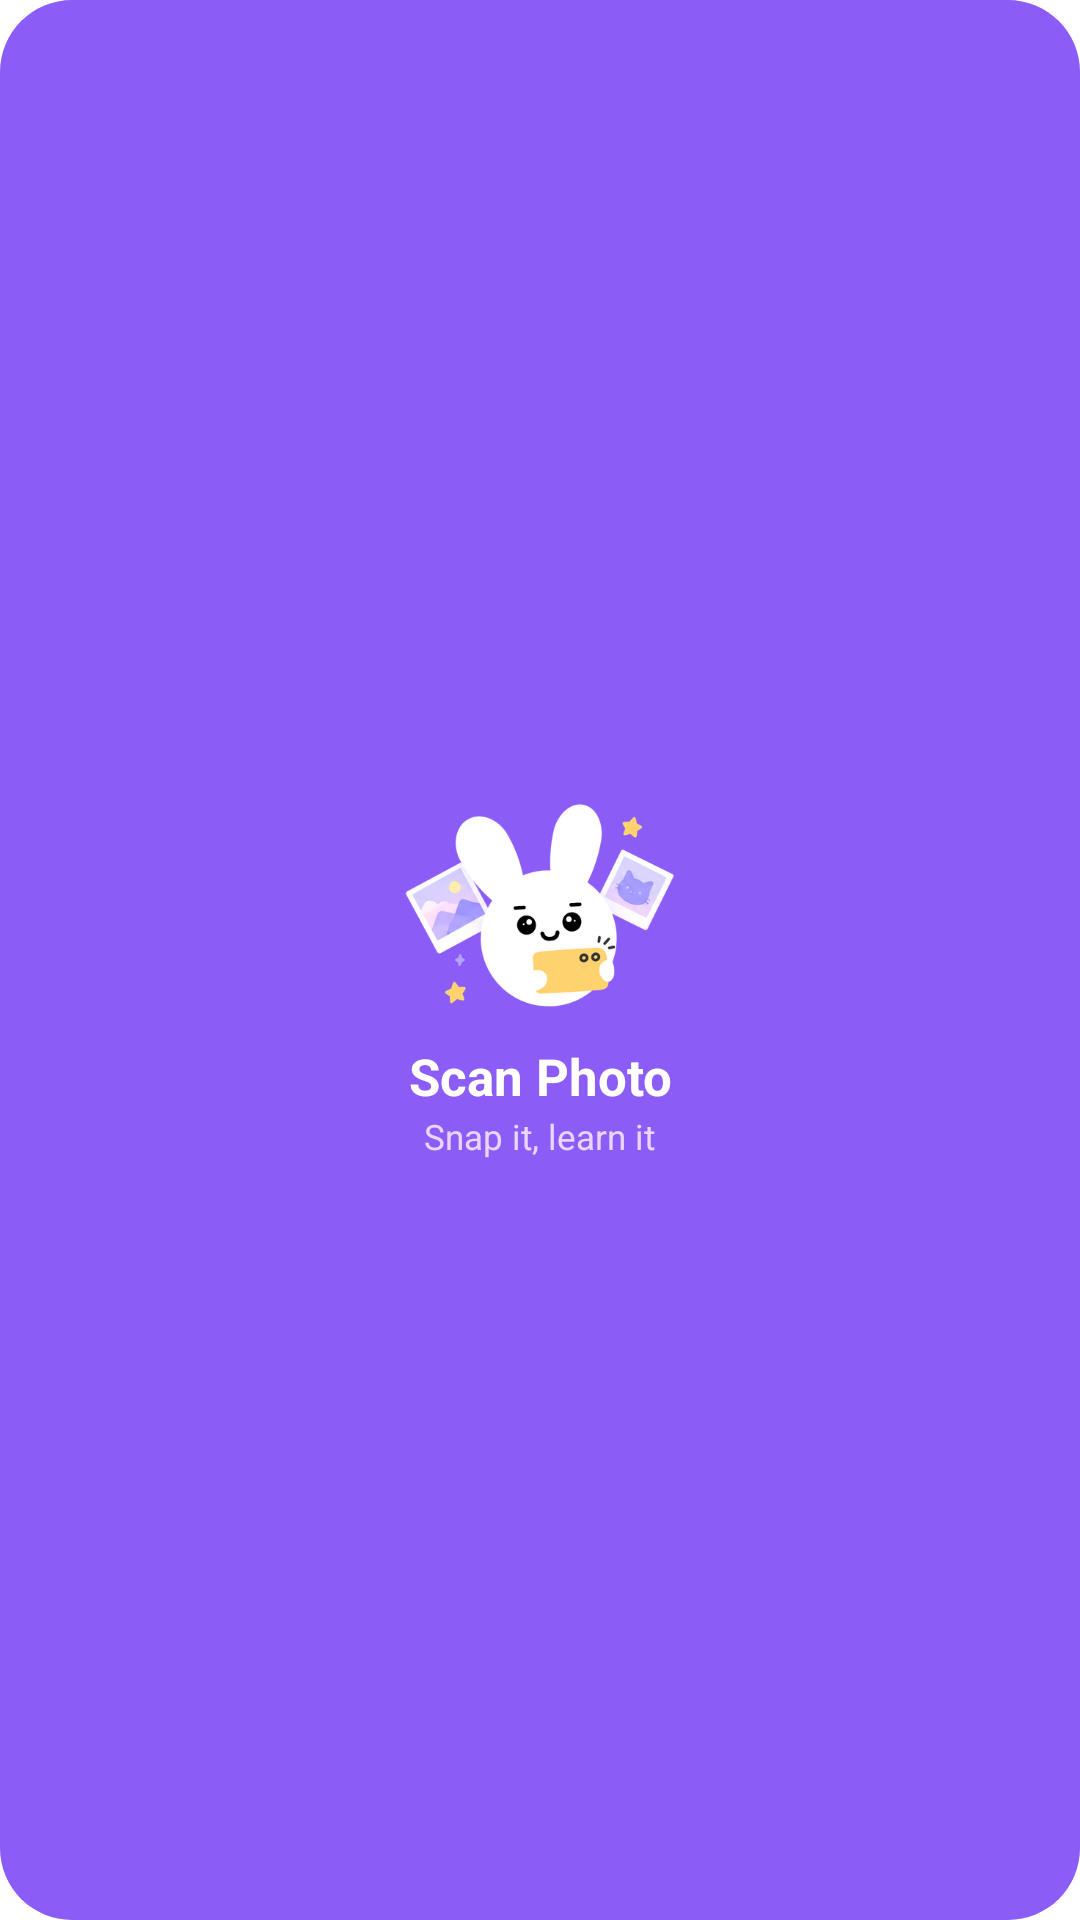

Point at icon controls on the screen. Image size 1080×1920, points as (x=x, y=y).
widget mascot scan: (x=540, y=905)
